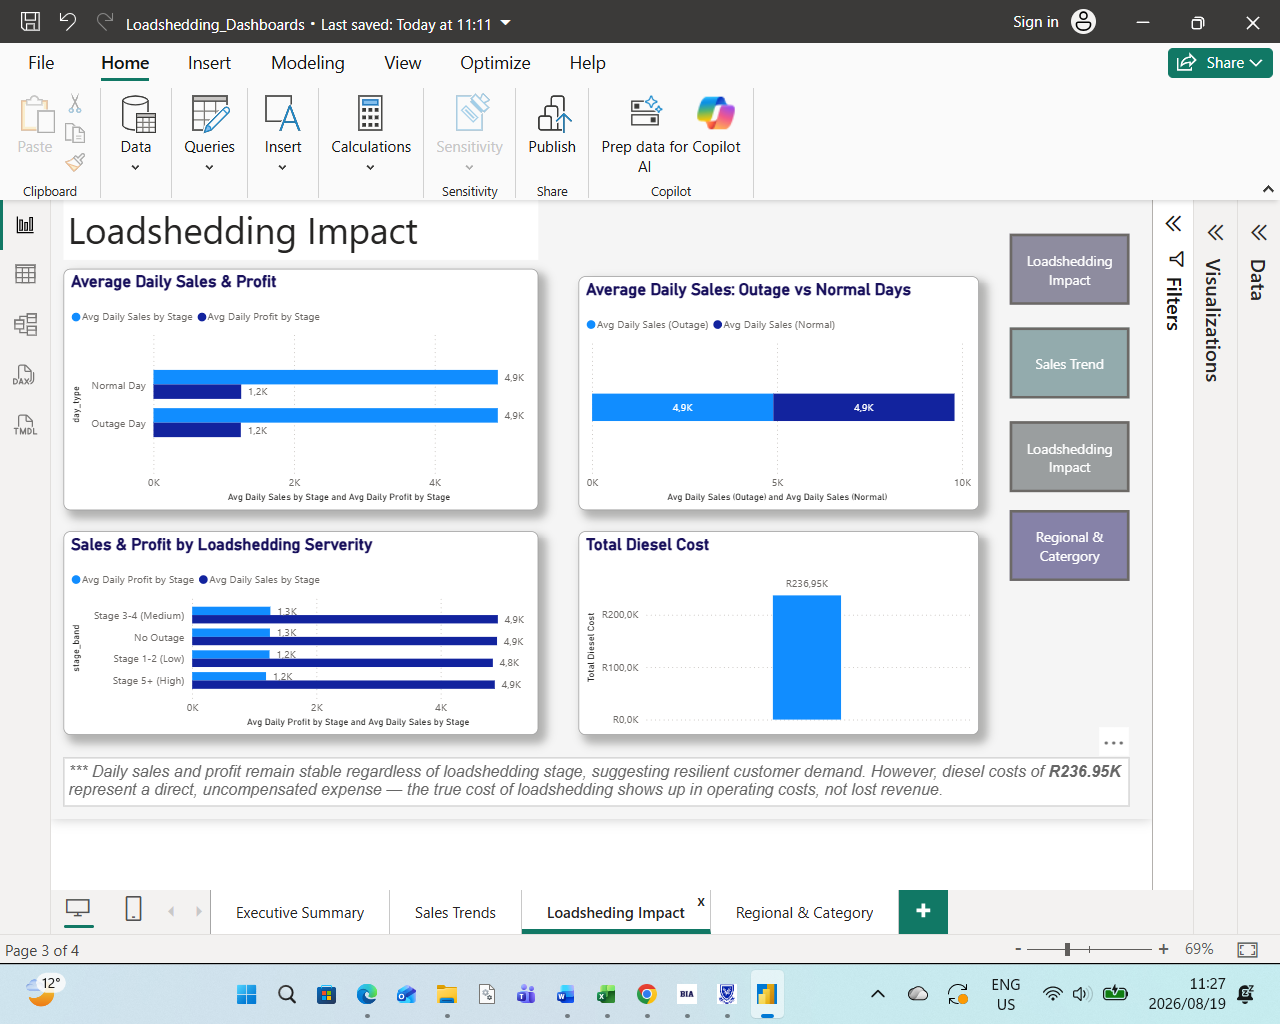

What the dashboard file says about the page in this screenshot:
{"tool":"powerbi","page":{"name":"Loadsheding Impact","canvas":[1280,720],"ordinal":2},"visuals":[{"type":"clusteredBarChart","title":"Average Daily Sales & Profit","fields":{"Category":["vw_dashboard_base.day_type"],"Y":["vw_dashboard_base.Avg Daily Sales by Stage","vw_dashboard_base.Avg Daily Profit by Stage"]},"box":[15.2,80.4,552.2,280.4],"z":0},{"type":"barChart","title":"Average Daily Sales: Outage vs Normal Days","fields":{"Y":["vw_dashboard_base.Avg Daily Sales (Outage)","vw_dashboard_base.Avg Daily Sales (Normal)"]},"box":[613,89.1,465.2,271.7],"z":1000},{"type":"clusteredColumnChart","fields":{"Y":["vw_dashboard_base.Total Diesel Cost"]},"box":[613,384.8,465.2,237],"z":2000},{"type":"actionButton","box":[1115.2,39.1,139.1,82.6],"z":3000},{"type":"textbox","box":[15.2,0,552.2,69.6],"z":4000},{"type":"actionButton","box":[1115.2,147.8,139.1,82.6],"z":5000},{"type":"actionButton","box":[1115.2,256.5,139.1,82.6],"z":6000},{"type":"actionButton","box":[1115.2,360.9,139.1,82.6],"z":7000},{"type":"clusteredBarChart","title":"Sales & Profit by Loadshedding Serverity","fields":{"Category":["vw_dashboard_base.stage_band"],"Y":["vw_dashboard_base.Avg Daily Profit by Stage","vw_dashboard_base.Avg Daily Sales by Stage"]},"box":[15.2,384.8,552.2,237],"z":8000},{"type":"textbox","box":[15.2,647.8,1239.1,56.5],"z":9000}]}

Visuals, with their boxes on the page's 1280x720 design canvas (x1, y1, x2, y2). These are canvas units, not pixel positions in the 1280x1024 screenshot, which may show the page scaled, cropped or inside an application window:
"Average Daily Sales & Profit" clusteredBarChart: locate(15, 80, 567, 361)
"Average Daily Sales: Outage vs Normal Days" barChart: locate(613, 89, 1078, 361)
clusteredColumnChart - vw_dashboard_base.Total Diesel Cost: locate(613, 385, 1078, 622)
actionButton: locate(1115, 39, 1254, 122)
textbox: locate(15, 0, 567, 70)
actionButton: locate(1115, 148, 1254, 230)
actionButton: locate(1115, 256, 1254, 339)
actionButton: locate(1115, 361, 1254, 444)
"Sales & Profit by Loadshedding Serverity" clusteredBarChart: locate(15, 385, 567, 622)
textbox: locate(15, 648, 1254, 704)
